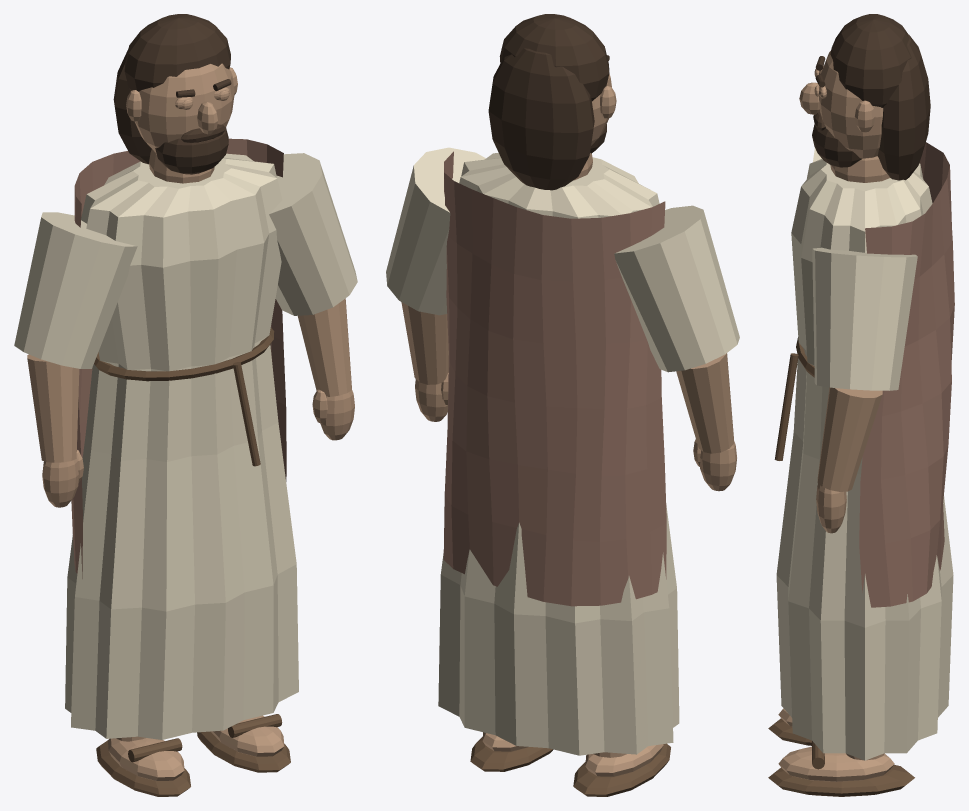
File: jesus.glb
3 renders of one model, left to right at view 1: azimuth 30°, elevation 25°; view 2: azimuth 150°, elevation 25°; view 3: azimuth 270°, elevation 25°, orthographic. The views are drawn at different scales.
Visible parts, largest first — view 1: jesus_torso_mesh, jesus_head_mesh, jesus_arm_left_mesh, jesus_arm_right_mesh, jesus_forearm_left_mesh, jesus_forearm_right_mesh, jesus_foot_left_mesh, jesus_foot_right_mesh, jesus_jaw_mesh; view 2: jesus_torso_mesh, jesus_head_mesh, jesus_arm_left_mesh, jesus_arm_right_mesh, jesus_forearm_left_mesh, jesus_forearm_right_mesh, jesus_foot_left_mesh, jesus_foot_right_mesh; view 3: jesus_torso_mesh, jesus_head_mesh, jesus_arm_right_mesh, jesus_forearm_right_mesh, jesus_foot_right_mesh, jesus_jaw_mesh, jesus_foot_left_mesh.
Boxes of the visible parts, x1,y1,x2,y2 form: jesus_torso_mesh: (65,138,298,739); jesus_head_mesh: (113,14,237,164); jesus_arm_left_mesh: (14,212,137,368); jesus_arm_right_mesh: (269,153,357,315); jesus_forearm_left_mesh: (27,354,83,507); jesus_forearm_right_mesh: (297,298,354,440); jesus_foot_left_mesh: (96,738,190,796); jesus_foot_right_mesh: (197,714,290,772); jesus_jaw_mesh: (155,128,228,174); jesus_torso_mesh: (438,151,679,755); jesus_head_mesh: (488,14,616,190); jesus_arm_left_mesh: (614,205,739,372); jesus_arm_right_mesh: (386,147,485,315); jesus_forearm_left_mesh: (676,353,736,491); jesus_forearm_right_mesh: (401,302,448,421); jesus_foot_left_mesh: (573,743,670,796); jesus_foot_right_mesh: (470,732,553,771); jesus_torso_mesh: (774,142,954,760); jesus_head_mesh: (799,14,930,180); jesus_arm_right_mesh: (812,247,917,390); jesus_forearm_right_mesh: (816,387,882,533); jesus_foot_right_mesh: (768,741,914,796); jesus_jaw_mesh: (812,124,862,167); jesus_foot_left_mesh: (768,708,811,745).
Size of the model in its own units: 0.831 by 1.76 by 0.4009.
